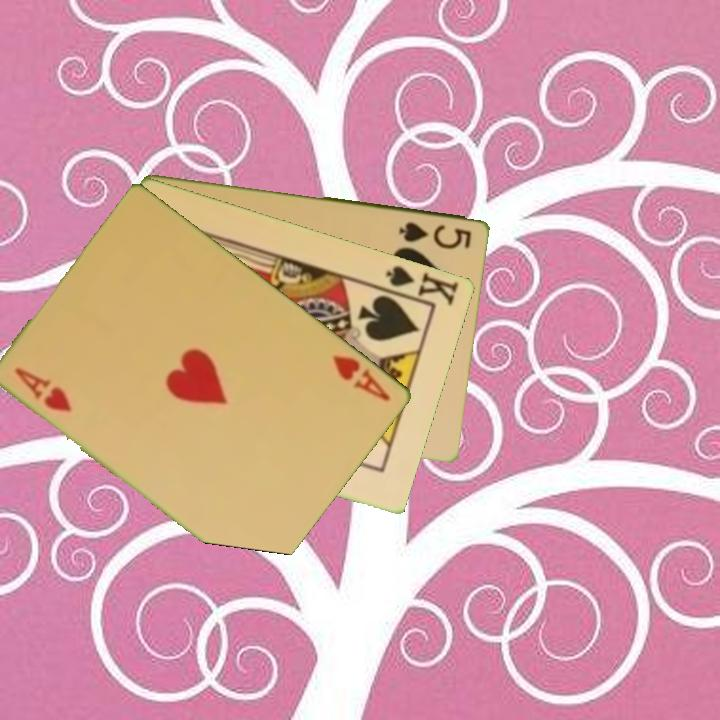5s: (396, 218, 475, 252)
Ah: (329, 351, 394, 404), (11, 363, 75, 415)
Ks: (382, 261, 462, 308)
